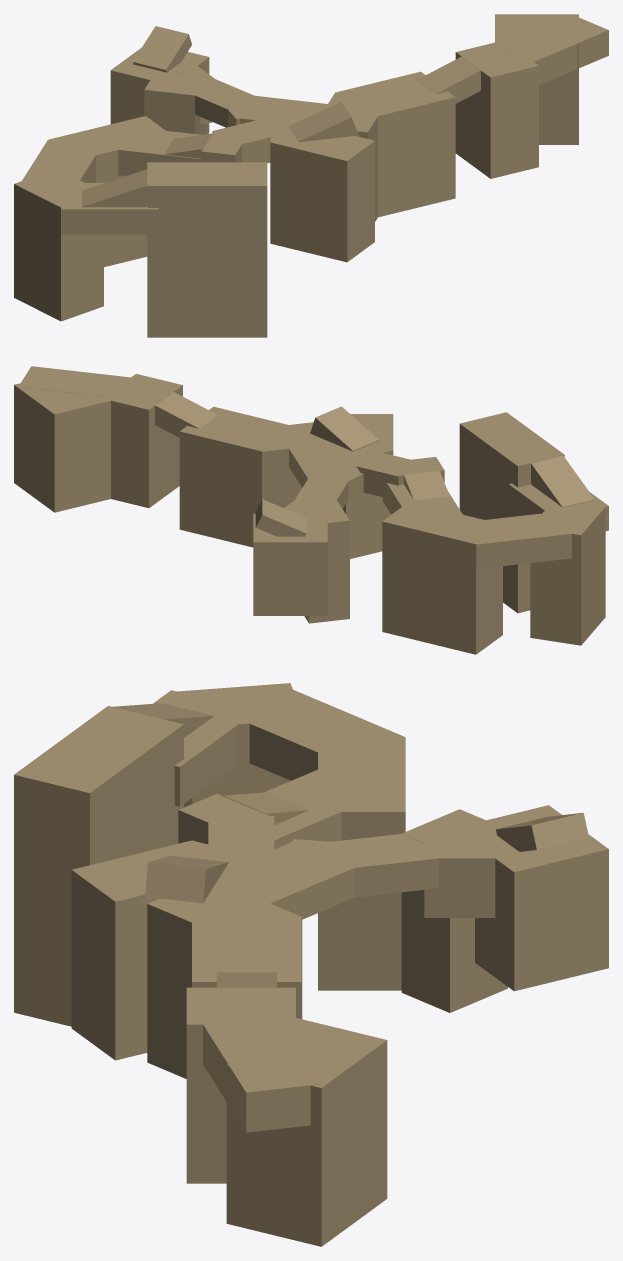
Rendered from p_FloorLeftLinker.fbx.
The picture shows the model from 3 angles, top to bottom: view 1: azimuth 30°, elevation 25°; view 2: azimuth 150°, elevation 25°; view 3: azimuth 270°, elevation 25°; orthographic projection. The views are drawn at different scales.
Visible parts, largest first — view 1: Wall_Cave__83_, Wall_Cave__103_, Wall_Cave__101_, Wall_Cave__106_, Wall_Cave__82_, Wall_Cave__77_, Wall_Cave__88_, Wall_Cave__98_, Wall_Cave__105_, Floor_03__206_, Wall_Cave__97_, Wall_Cave__79_ (+13 smaller); view 2: Wall_Cave__77_, Wall_Cave__98_, Wall_Cave__101_, Wall_Cave__83_, Wall_Cave__106_, Wall_Cave__82_, Wall_Cave__97_, Wall_Cave__79_, Floor_03__206_, Wall_Cave__84_, Wall_Cave__102_, Wall_Cave__88_ (+13 smaller); view 3: Wall_Cave__83_, Wall_Cave__98_, Wall_Cave__97_, Wall_Cave__77_, Wall_Cave__103_, Wall_Cave__84_, Wall_Cave__88_, Floor_03__206_, Wall_Cave__82_, Wall_Cave__79_, Wall_Cave__99_, Wall_Cave__101_ (+13 smaller).
Boxes of the visible parts, box(x1,y1,x2,y2) form: Wall_Cave__83_: box(147, 162, 267, 337); Wall_Cave__103_: box(270, 134, 374, 262); Wall_Cave__101_: box(337, 71, 455, 217); Wall_Cave__106_: box(14, 168, 103, 321); Wall_Cave__82_: box(455, 40, 538, 178); Wall_Cave__77_: box(49, 116, 169, 266); Wall_Cave__88_: box(493, 14, 608, 84); Wall_Cave__98_: box(495, 14, 578, 144); Wall_Cave__105_: box(61, 183, 158, 234); Floor_03__206_: box(144, 72, 206, 134); Wall_Cave__97_: box(110, 47, 209, 134); Wall_Cave__79_: box(20, 140, 100, 191); Wall_Cave__77_: box(382, 501, 502, 654); Wall_Cave__98_: box(14, 370, 110, 512); Wall_Cave__101_: box(179, 406, 295, 547); Wall_Cave__83_: box(459, 412, 564, 613); Wall_Cave__106_: box(530, 503, 605, 645); Wall_Cave__82_: box(102, 374, 182, 508); Wall_Cave__97_: box(253, 513, 327, 615); Wall_Cave__79_: box(463, 510, 581, 568); Floor_03__206_: box(302, 500, 349, 623); Wall_Cave__84_: box(248, 422, 333, 507); Wall_Cave__102_: box(331, 450, 392, 558); Wall_Cave__88_: box(18, 366, 135, 398); Wall_Cave__83_: box(14, 706, 183, 1026); Wall_Cave__98_: box(226, 1018, 387, 1246); Wall_Cave__97_: box(475, 805, 608, 991); Wall_Cave__77_: box(318, 738, 405, 990); Wall_Cave__103_: box(71, 840, 235, 1060); Wall_Cave__84_: box(147, 881, 302, 1078); Wall_Cave__88_: box(201, 1012, 325, 1132); Floor_03__206_: box(401, 809, 507, 1012); Wall_Cave__82_: box(186, 987, 295, 1183); Wall_Cave__79_: box(220, 685, 405, 780); Wall_Cave__99_: box(217, 841, 354, 919); Wall_Cave__101_: box(192, 917, 301, 1018).
Bounding box in the file's own units: 4802 × 1278 × 2717.
